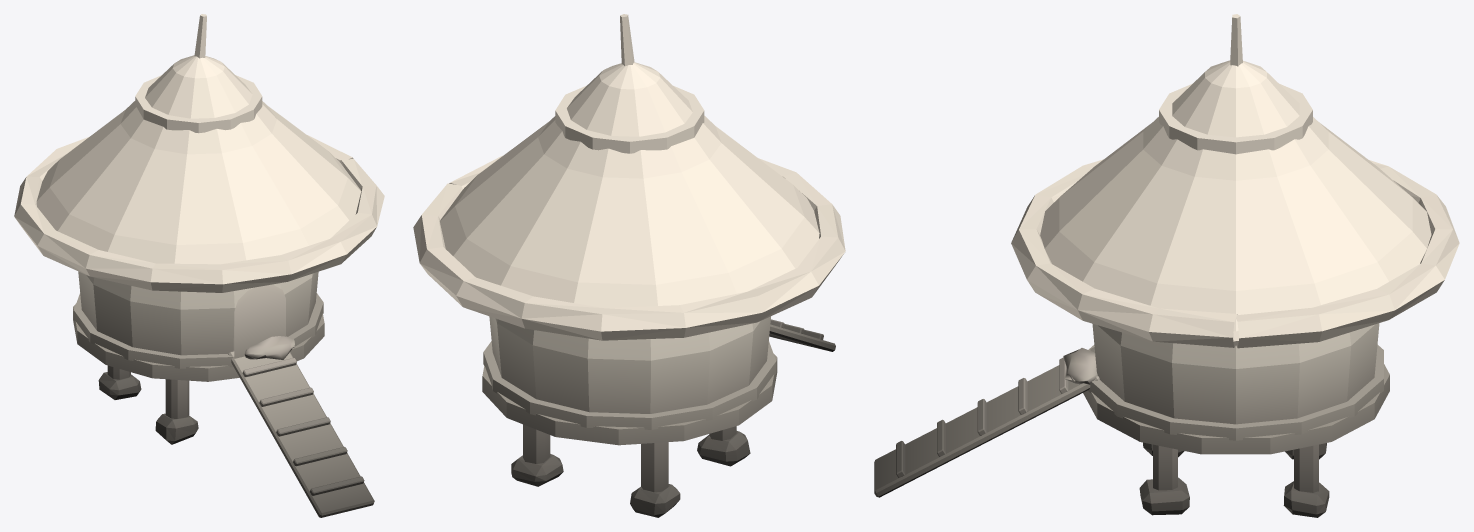
The model's file is SM_VK_Prop_ChickenCoop_Wattle.fbx.
The picture shows the model from 3 angles, left to right: view 1: azimuth 30°, elevation 25°; view 2: azimuth 150°, elevation 25°; view 3: azimuth 270°, elevation 25°; orthographic projection. The views are drawn at different scales.
Parts seen in each view (by area): view 1: SM_VK_Prop_ChickenCoop_Wattle.001; view 2: SM_VK_Prop_ChickenCoop_Wattle.001; view 3: SM_VK_Prop_ChickenCoop_Wattle.001.
Part boxes in pixels (x1=…): SM_VK_Prop_ChickenCoop_Wattle.001: x1=14, y1=14, x2=384, y2=517; SM_VK_Prop_ChickenCoop_Wattle.001: x1=413, y1=14, x2=845, y2=517; SM_VK_Prop_ChickenCoop_Wattle.001: x1=874, y1=14, x2=1459, y2=517.
Bounding box in the file's own units: 1.99 × 2.29 × 2.58.
